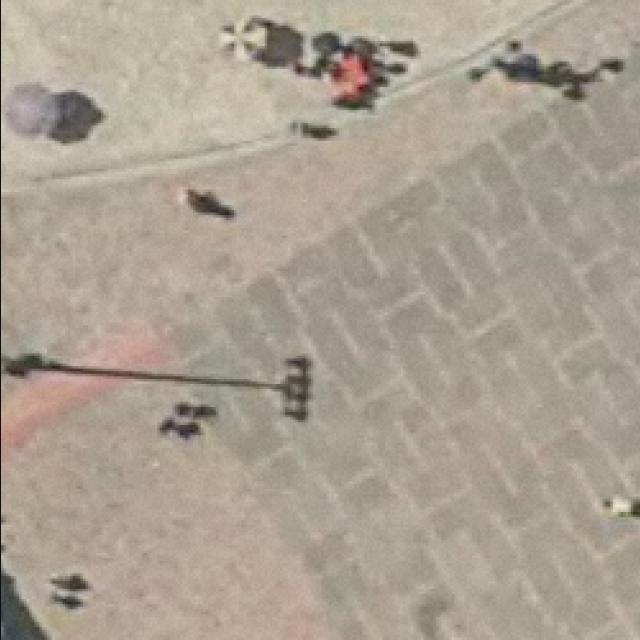vendedor_ambulante: (1, 79, 66, 141), (214, 12, 268, 65)
